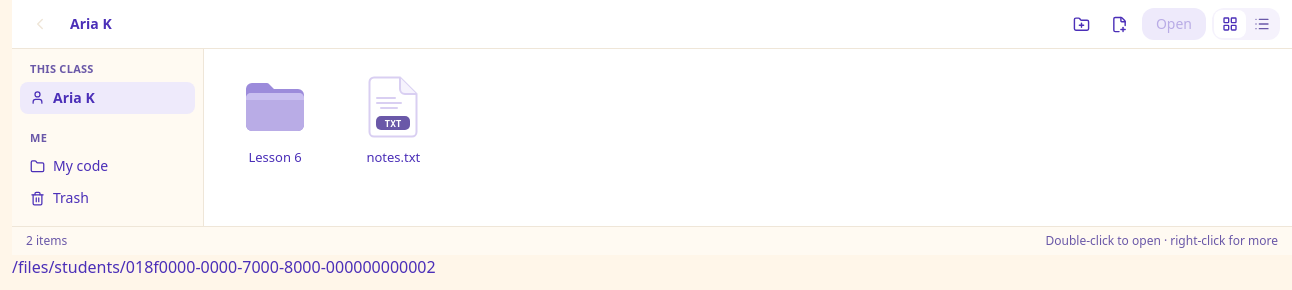
Test: a click selects, a double-click opens the folder, and Back comes out of it
Click the button with aria-label "Lesson 6, folder". click: [275, 118]
box: [220, 65, 330, 171]
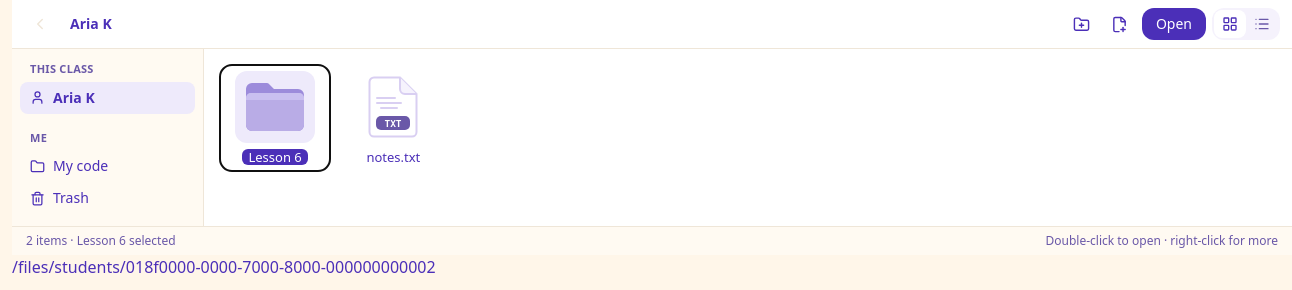
expect the text "2 items · Lesson 6 selected" is shown: met, box [26, 233, 176, 249]
Double-click the button "Lesson 6" at [275, 118], box [220, 65, 330, 171]
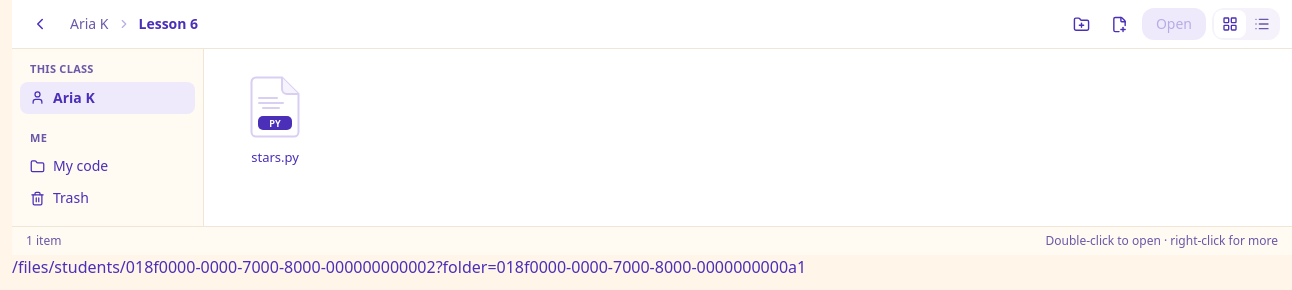
expect the button with aria-label "stars.py, file" is shown: met, box [220, 65, 330, 171]
Click the button named "Back". click: [40, 24]
box: [24, 8, 56, 40]
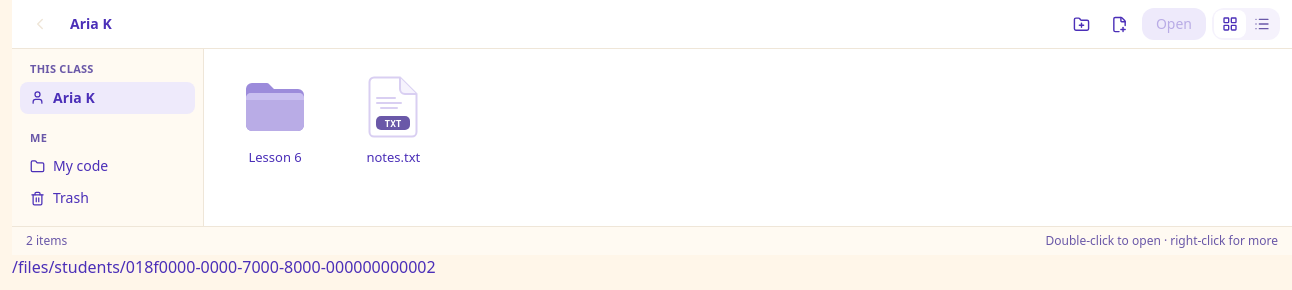
expect the button with aria-label "notes.txt, file" is shown: met, box [338, 65, 448, 171]
